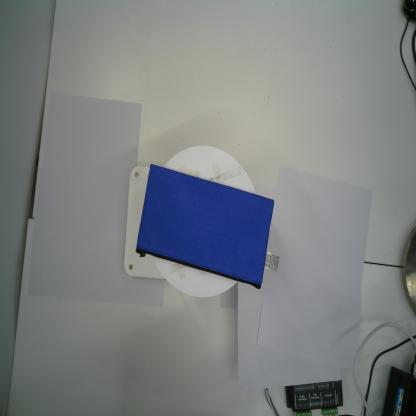Stationery: (134, 161, 282, 291)
